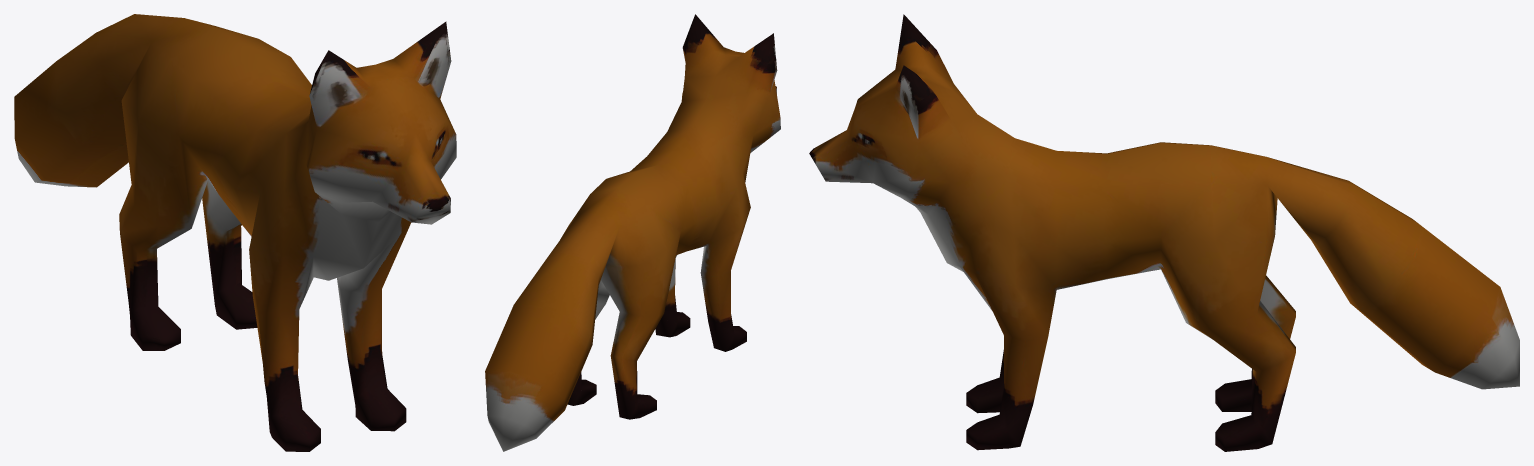
The model's file is Low Poly Fox.glb.
The picture shows the model from 3 angles, left to right: view 1: azimuth 30°, elevation 25°; view 2: azimuth 150°, elevation 25°; view 3: azimuth 270°, elevation 25°; orthographic projection. The views are drawn at different scales.
Parts seen in each view (by area): view 1: pb_node; view 2: pb_node; view 3: pb_node.
Part boxes in pixels (x1,y1,x2,y2): pb_node: [14, 14, 456, 451]; pb_node: [485, 14, 780, 451]; pb_node: [809, 14, 1519, 451].
Size of the model in its own units: 0.2168 by 0.5957 by 0.998.
Materials: 1 (1 with a texture image).
